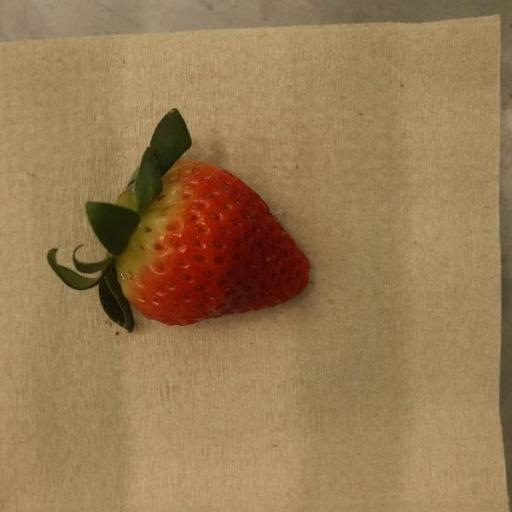Strawberry: (46, 109, 310, 334)
